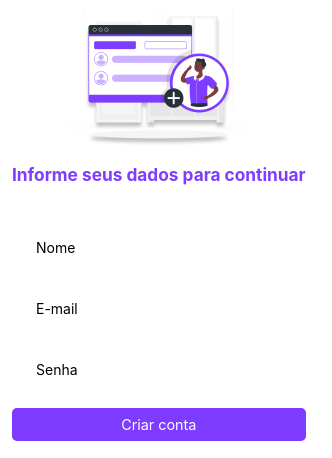
should validate required form fields
Click the text "Criar conta". click: point(159, 424)
box: x1=121 y1=416 x2=196 y2=433
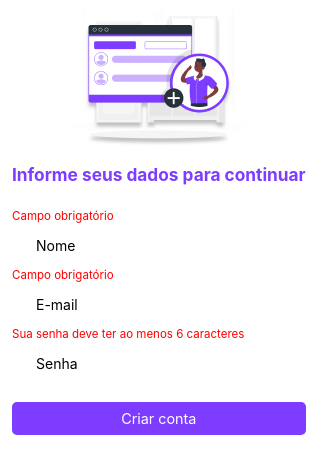
Expected: the text with test id "name-input-error" reads "Campo obrigatório", x1=12 y1=209 x2=114 y2=223
Expected: the text with test id "email-input-error" reads "Campo obrigatório", x1=12 y1=268 x2=114 y2=282
Expected: the text with test id "password-input-error" reads "Sua senha deve ter ao menos 6 caracteres", x1=12 y1=327 x2=244 y2=341
